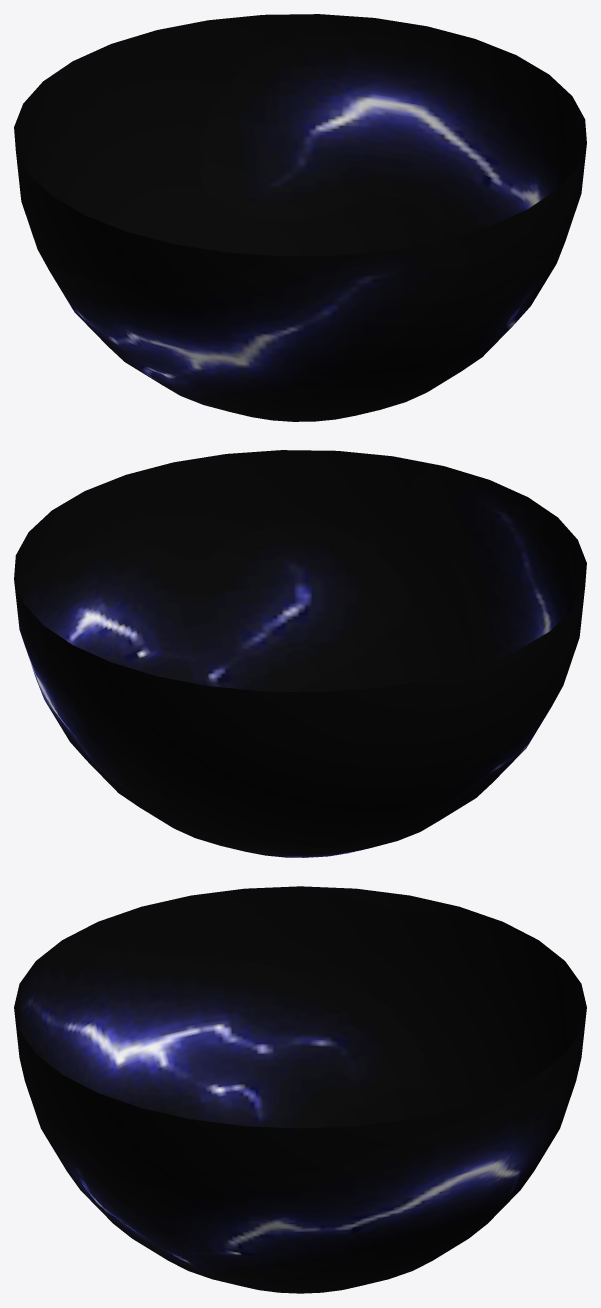
The model's file is 0213_banqiu_juqi.glb.
3 views of the same model, one above another, from view 1: azimuth 30°, elevation 25°; view 2: azimuth 150°, elevation 25°; view 3: azimuth 270°, elevation 25° (orthographic).
Size of the model in its own units: 2.2 by 1.02 by 2.2.
1 material, 1 textured.
